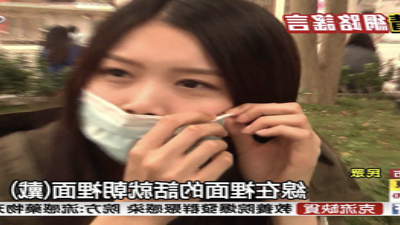mask_weared_incorrect: (73, 47, 231, 169)
